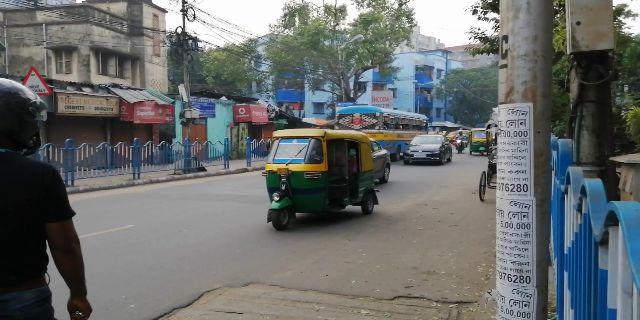Autorickshaw: (266, 128, 378, 229)
Bus: (339, 105, 432, 157)
Car: (406, 136, 449, 161)
